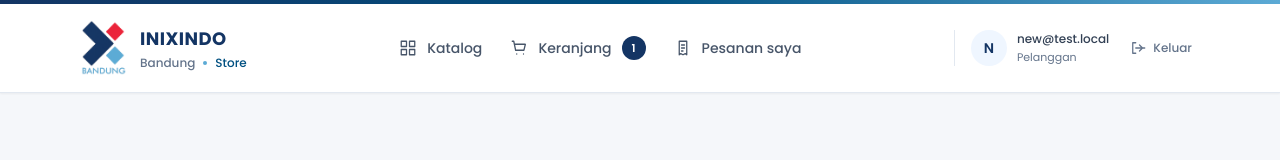
makes a failed server logout visible and allows the user to retry
Click the button "Keluar" at coordinates (1161, 48), box [1121,31,1200,65]
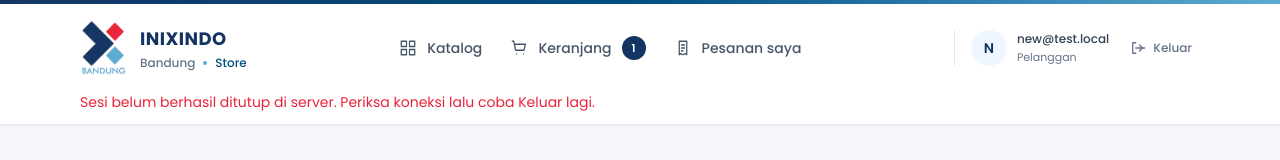
Expected: the message shows "Sesi belum berhasil ditutup di server", [80,92,595,112]
Click the button "Keluar" at coordinates (1161, 48), box [1121,31,1200,65]
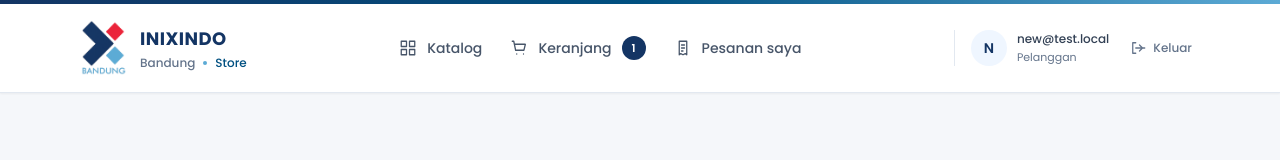
Expected: the message "Sesi belum berhasil ditutup di server. Periksa koneksi lalu coba Keluar lagi." is gone
